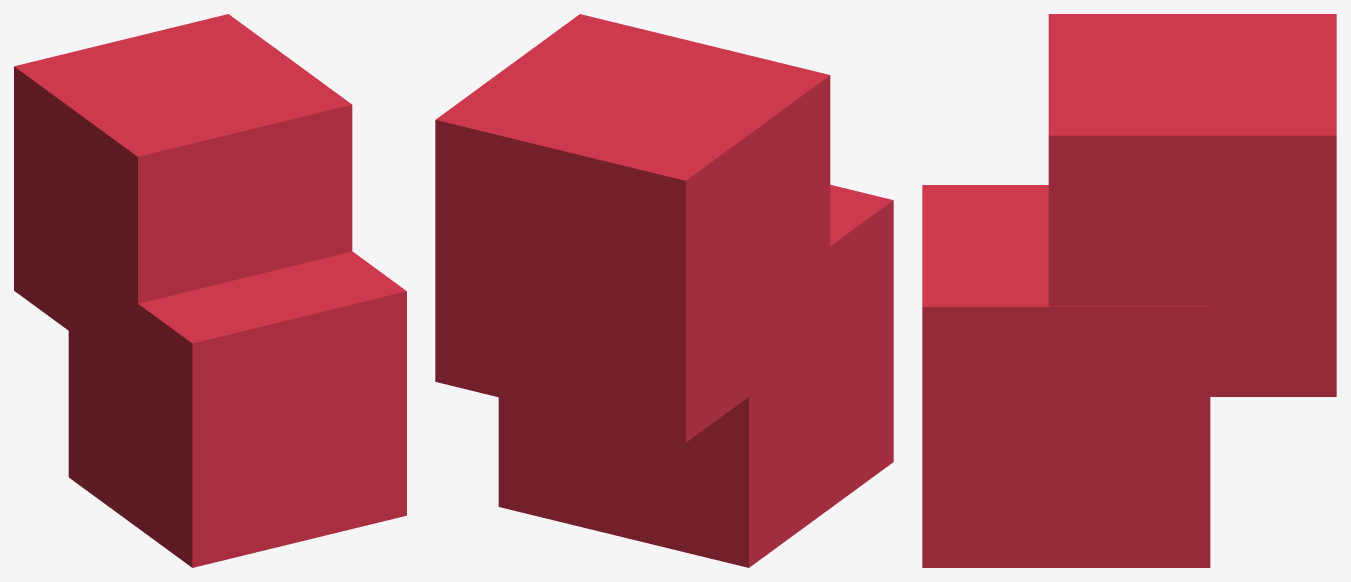
3 views of the same model, side by side, from view 1: azimuth 30°, elevation 25°; view 2: azimuth 150°, elevation 25°; view 3: azimuth 270°, elevation 25° (orthographic). The views are drawn at different scales.
Parts seen in each view (by area): view 1: Cube.001, Cube; view 2: Cube.001, Cube; view 3: Cube.001, Cube.
Boxes of the visible parts, box(x1,y1,x2,y2) form: Cube.001: box(14, 14, 352, 380); Cube: box(68, 251, 406, 567); Cube.001: box(435, 14, 830, 442); Cube: box(498, 184, 893, 567); Cube.001: box(1048, 14, 1336, 396); Cube: box(922, 185, 1210, 567).
Bounding box in the file's own units: 2 × 3.31 × 2.88.
